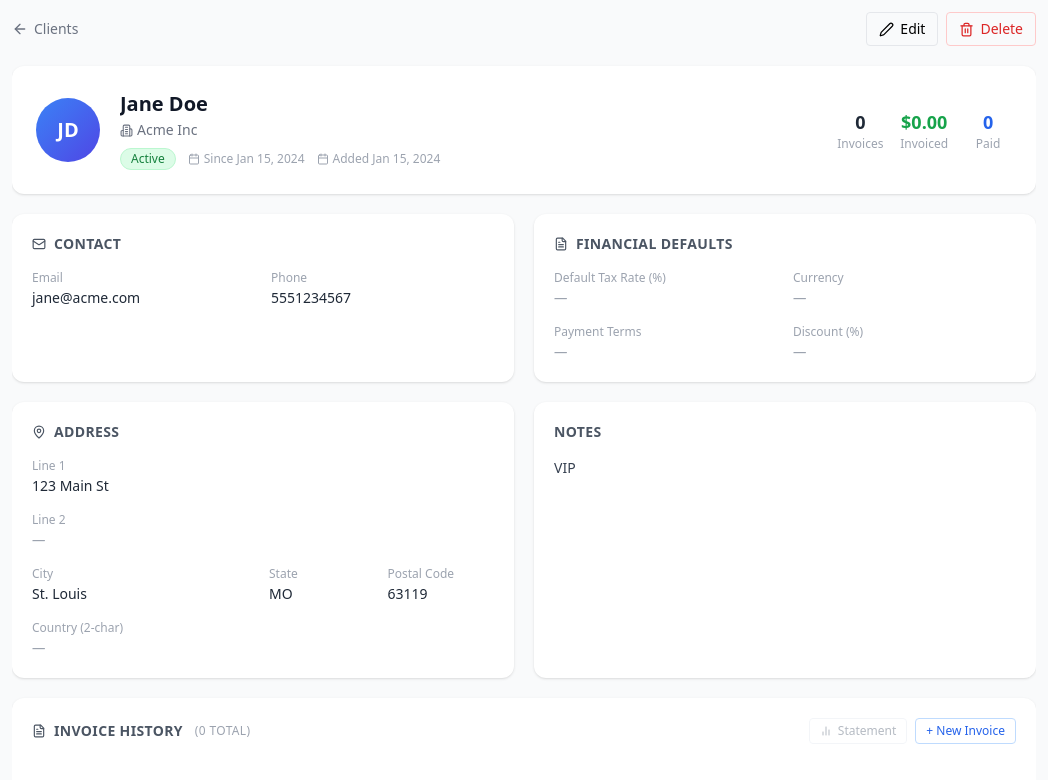
ClientDetail — required field validation › clears errors when the field is corrected
expect the heading "Jane Doe" is shown: met, box [120,90,208,117]
Click the button "Edit" at (902,29), box [866,12,938,46]
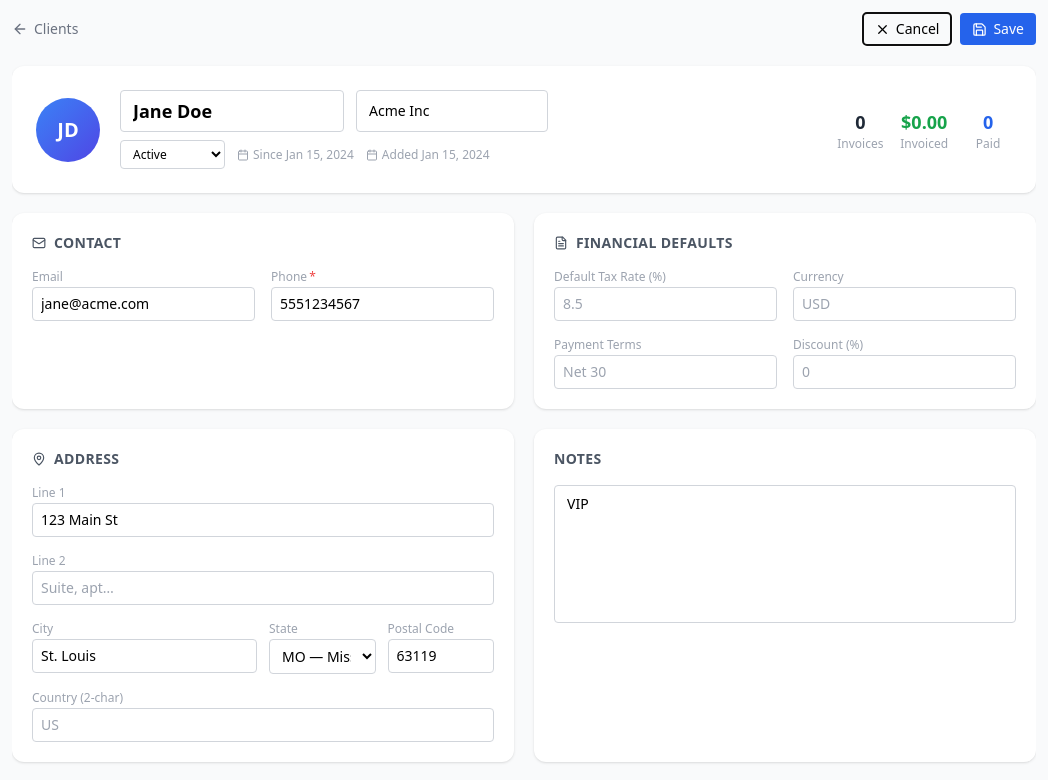
Clear the field showing "5551234567" below "Phone" at (382,304), box [271,287,494,321]
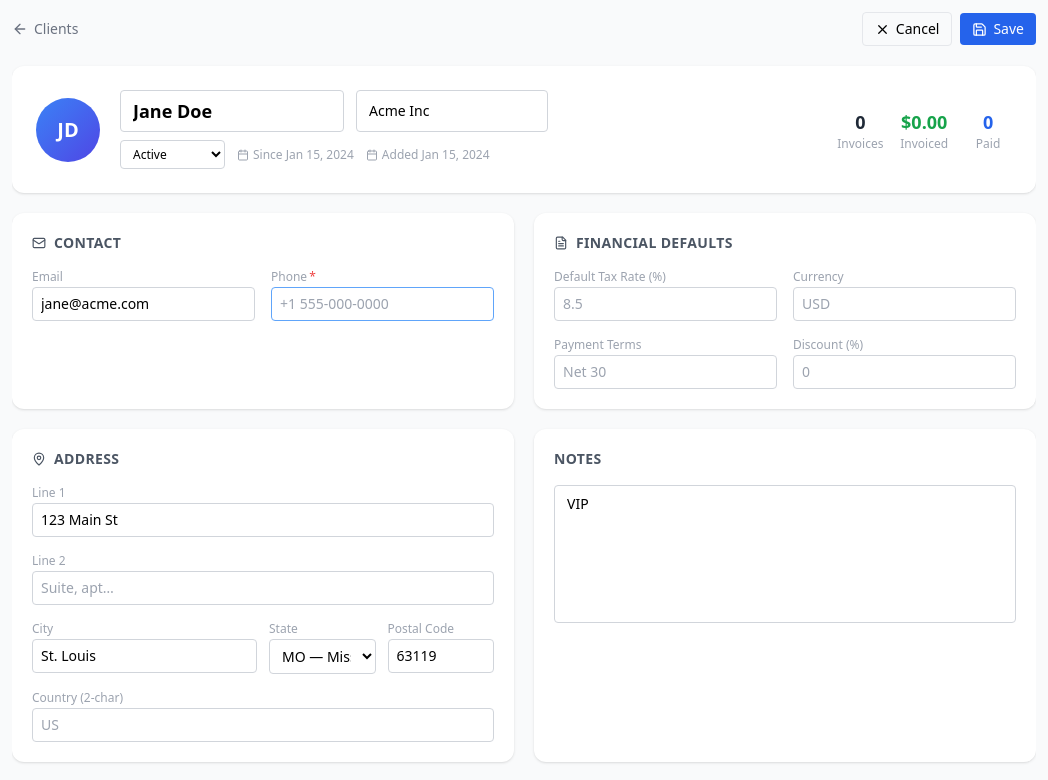
Click the button "Save" at (998,29), box [960,13,1036,45]
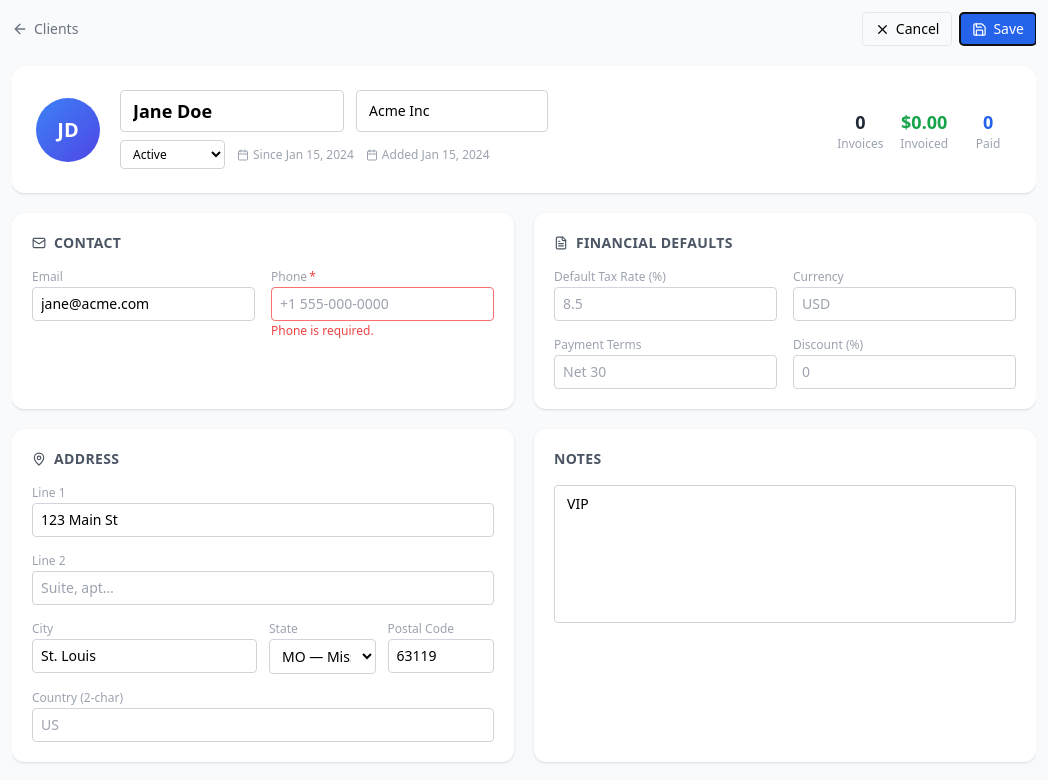
expect the text "Phone is required." is shown: met, box [271,322,374,339]
# Fix the field — re-query by placeholder since it's now empty
Type "9876543210" into the field with placeholder "+1 555-000-0000" at (382,304), box [271,287,494,321]
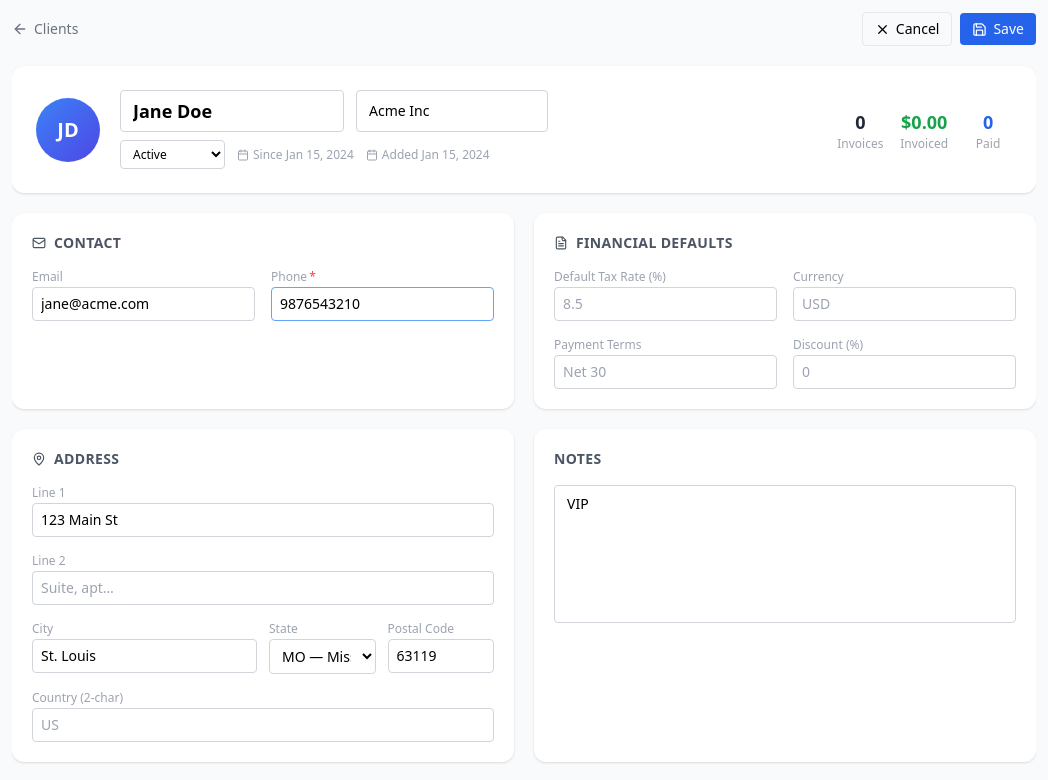
expect the text "Phone is required." is gone: met
